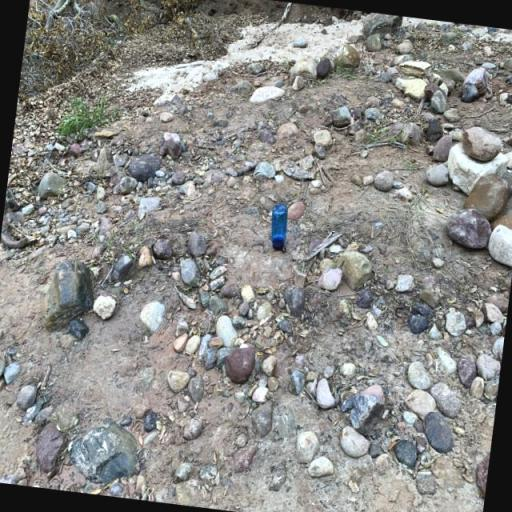bottle: (266, 203, 292, 253)
